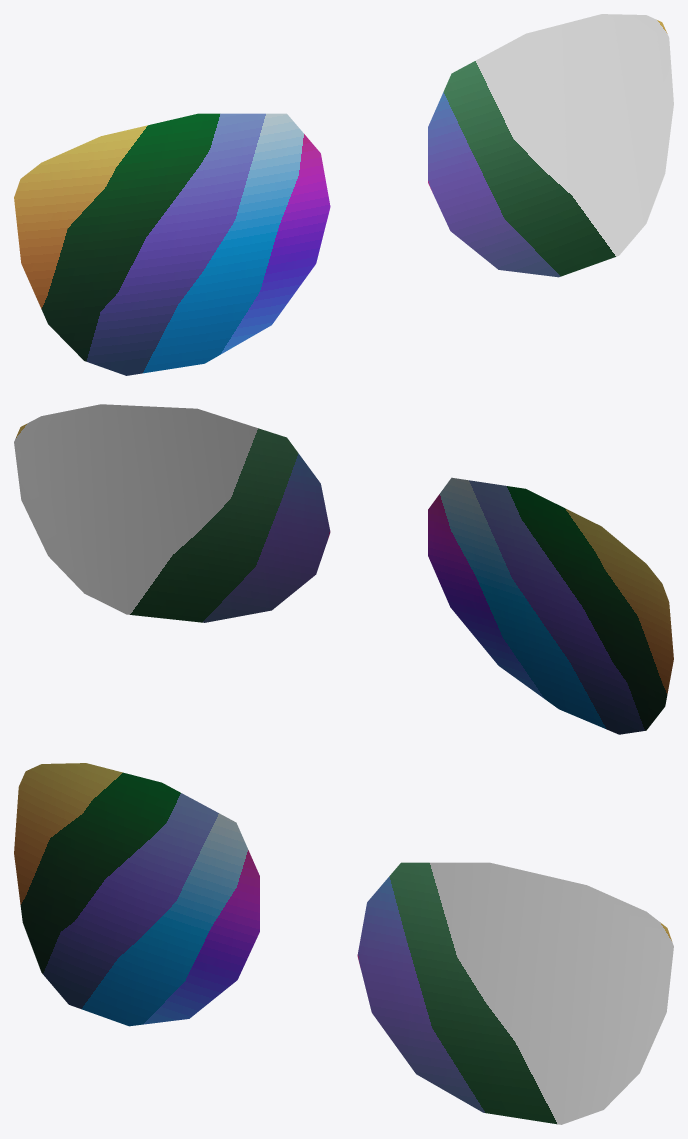
The model's file is FX_SunGlass_01.FBX.
The picture shows the model from 3 angles, top to bottom: view 1: azimuth 30°, elevation 25°; view 2: azimuth 150°, elevation 25°; view 3: azimuth 330°, elevation 25°; orthographic projection.
Parts seen in each view (by area): view 1: sunglasses001; view 2: sunglasses001; view 3: sunglasses001.
Part boxes in pixels (x1=…): sunglasses001: x1=14, y1=14, x2=673, y2=375; sunglasses001: x1=14, y1=404, x2=673, y2=734; sunglasses001: x1=14, y1=763, x2=673, y2=1124.
Size of the model in its own units: 23.15 by 2.68 by 7.9.
